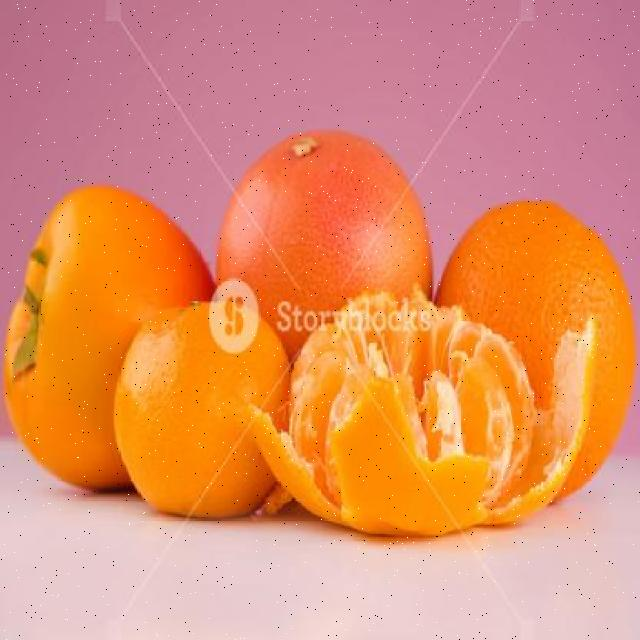Orange: (2, 182, 215, 492), (434, 197, 637, 503), (214, 128, 434, 358), (111, 296, 291, 518)
